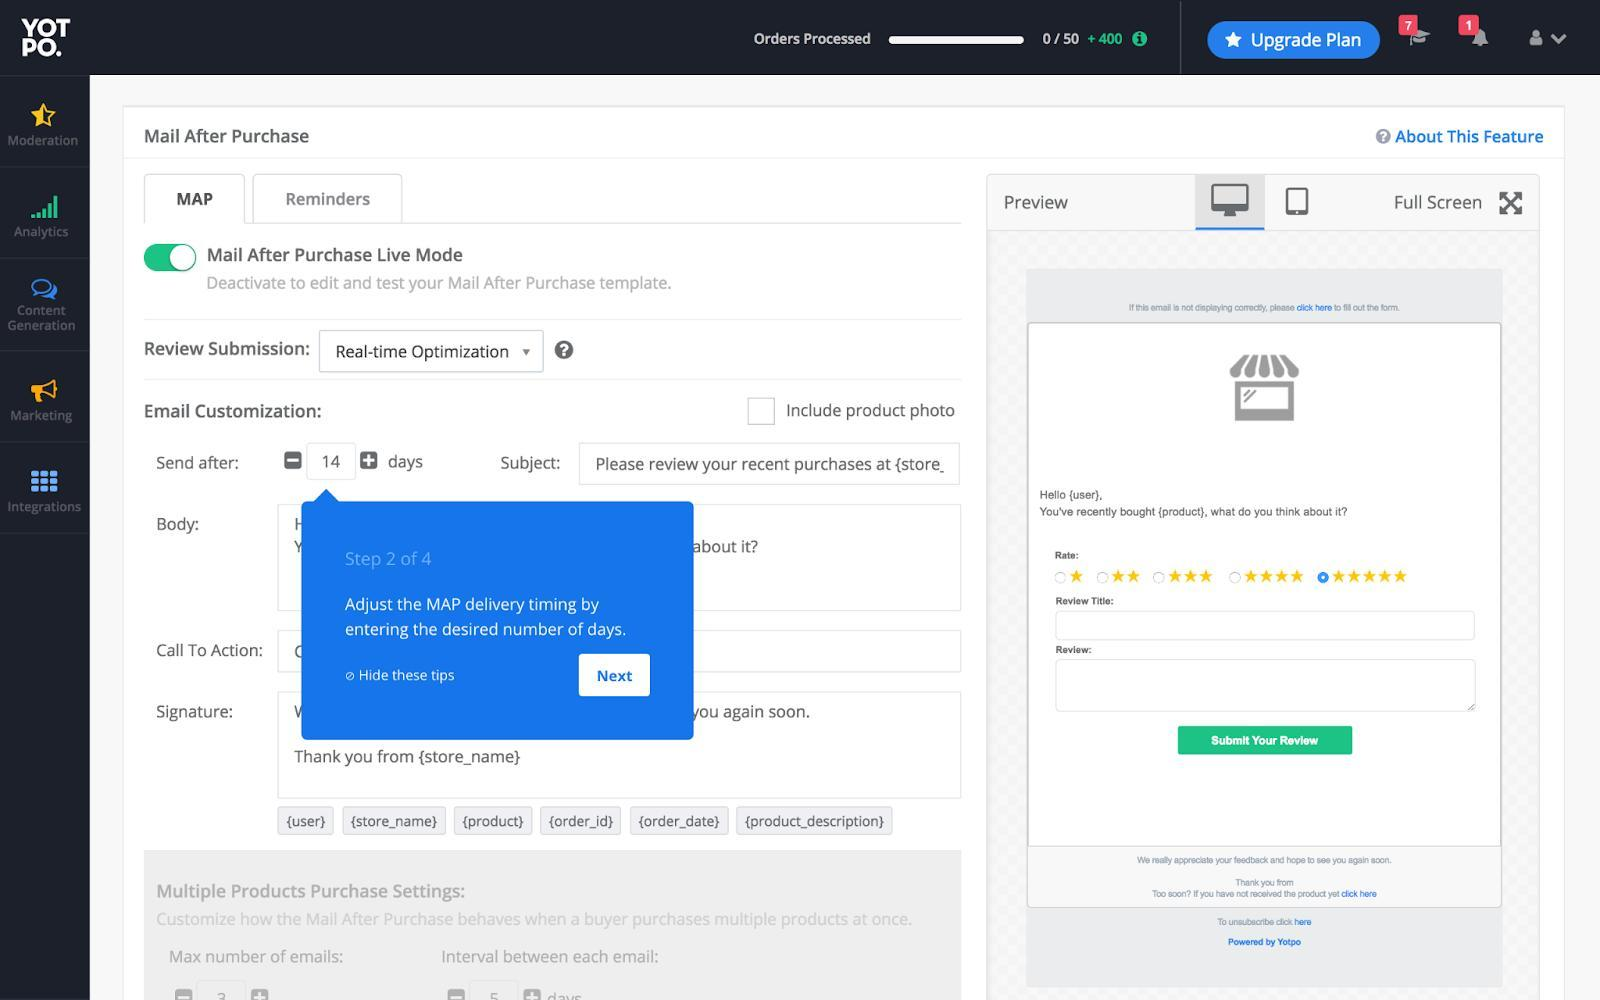button: (1208, 21, 1382, 63), (1178, 726, 1355, 758), (737, 806, 893, 836), (578, 654, 652, 697), (630, 808, 731, 836), (343, 806, 445, 834), (541, 806, 622, 838), (454, 806, 533, 838), (276, 806, 335, 836)
checkbox: (746, 399, 776, 427)
dropdown: (321, 329, 547, 374)
icon: (1207, 183, 1254, 218), (1284, 184, 1312, 220), (29, 195, 61, 222), (29, 470, 63, 495), (26, 278, 61, 303), (29, 104, 56, 131), (29, 380, 59, 404), (1408, 29, 1432, 48), (1527, 28, 1546, 47), (1474, 28, 1491, 50), (1071, 570, 1085, 586)
input: (581, 444, 961, 486), (1054, 609, 1478, 642)
label: (1038, 482, 1360, 524), (347, 598, 629, 641), (202, 275, 676, 294), (208, 247, 467, 267), (291, 747, 523, 768), (144, 124, 311, 149), (784, 402, 960, 425), (142, 340, 310, 363), (144, 403, 324, 422), (1394, 129, 1548, 146), (752, 28, 872, 50), (152, 642, 267, 662), (7, 304, 79, 336), (344, 666, 458, 685), (1392, 194, 1489, 215), (346, 550, 437, 570), (152, 454, 241, 474), (7, 406, 78, 430), (153, 703, 236, 724), (287, 191, 370, 210), (2, 500, 84, 518), (3, 132, 79, 151), (1001, 194, 1070, 213), (500, 455, 562, 474), (156, 516, 203, 539), (14, 228, 71, 242), (177, 189, 215, 210), (1055, 596, 1116, 608), (1054, 645, 1097, 657), (1054, 551, 1083, 561)
radio: (1152, 571, 1167, 586), (1228, 571, 1243, 585), (1054, 573, 1068, 586), (1318, 571, 1330, 584), (1098, 571, 1109, 585)
switch: (143, 243, 198, 274)
